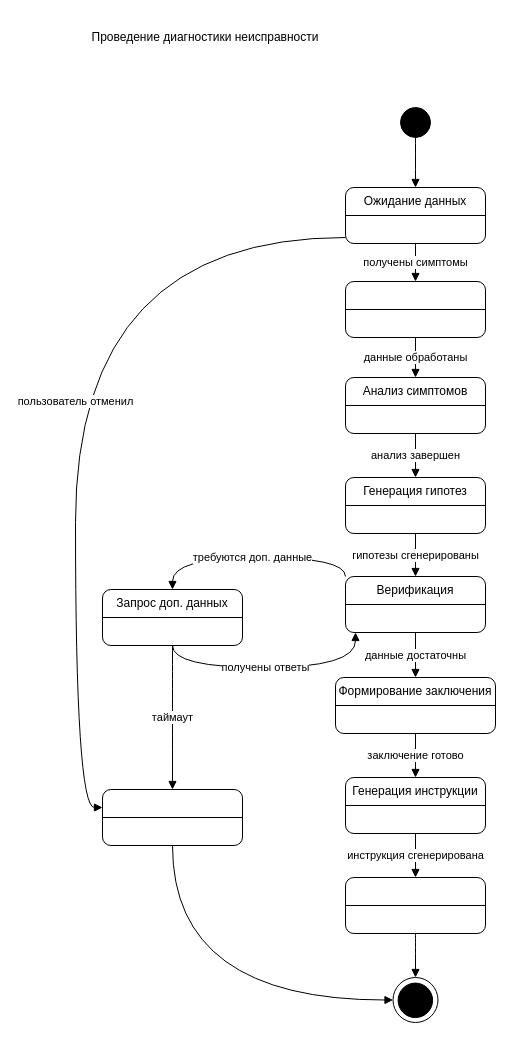
This 514x1040 diagram has some shape labels left out. The box of each missing label's shape, as (x1, y1, x2, y2) in pixels:
Диагностика завершена: (344, 876, 486, 934)
Диагностика отменена: (102, 788, 242, 846)
Обработка данных: (344, 280, 486, 338)
